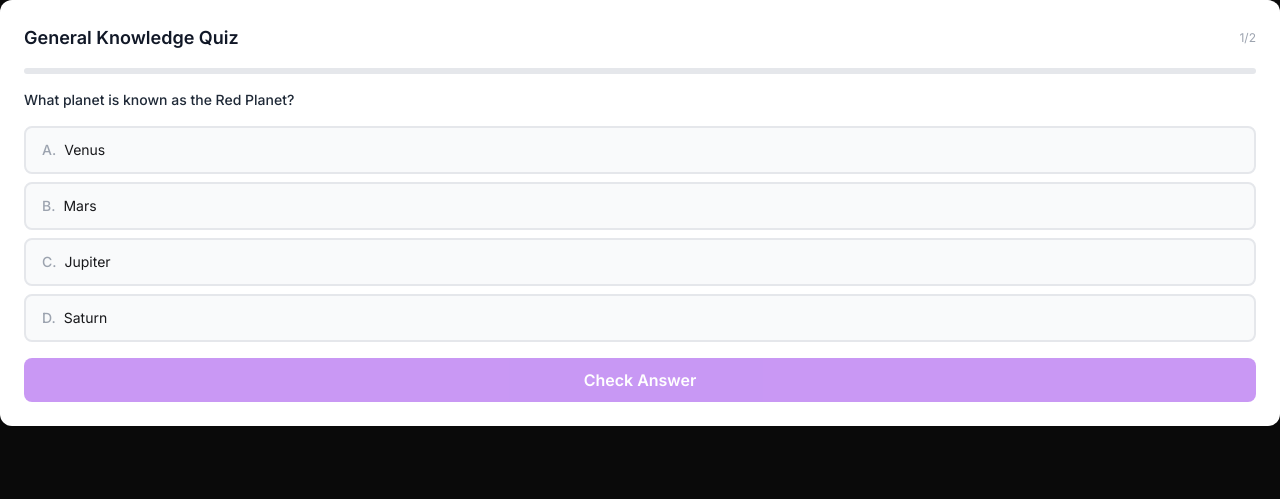
Test: Quiz › shows wrong answer feedback
Click the radio button "Venus". click: (85, 150)
box: [24,126,1256,174]
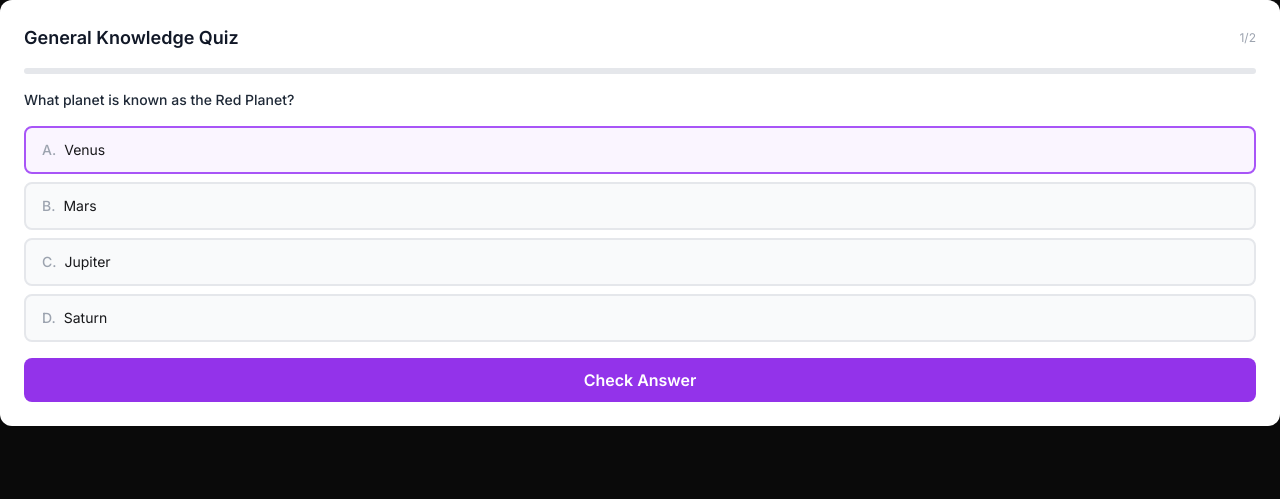
Click the button "Check Answer". click: (640, 380)
box: [24,358,1256,402]
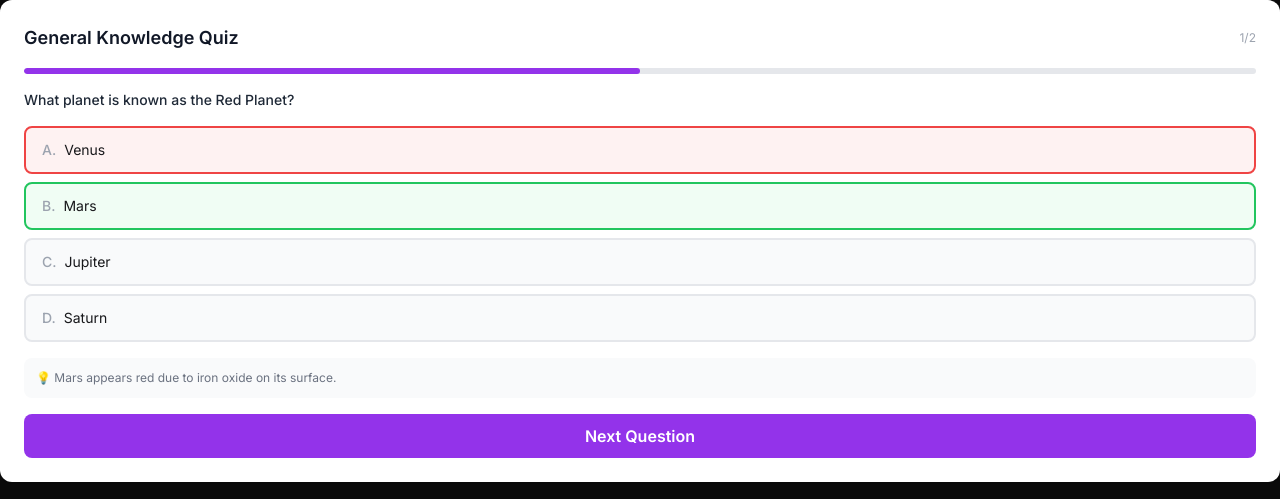
Expected: the text "💡 Mars appears red due to iron oxide on its surface." is shown, [24,358,1256,398]
